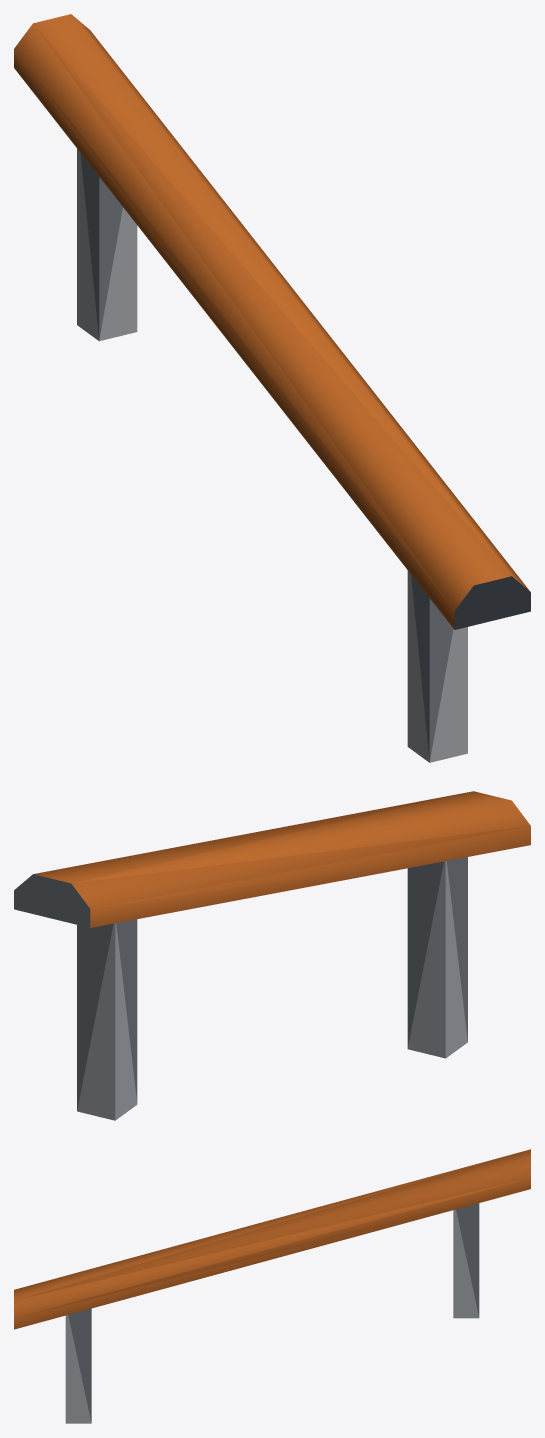
File: Kit_stairs-handrail-single.fbx
The picture shows the model from 3 angles, top to bottom: view 1: azimuth 30°, elevation 25°; view 2: azimuth 150°, elevation 25°; view 3: azimuth 270°, elevation 25°; orthographic projection. The views are drawn at different scales.
Visible parts, largest first — view 1: Kit_stairs-handrail-single; view 2: Kit_stairs-handrail-single; view 3: Kit_stairs-handrail-single.
Boxes of the visible parts, box(x1,y1,x2,y2) form: Kit_stairs-handrail-single: box(14, 14, 530, 762); Kit_stairs-handrail-single: box(14, 791, 530, 1120); Kit_stairs-handrail-single: box(14, 1149, 530, 1423).
Size of the model in its own units: 0.1 by 0.5625 by 1.
